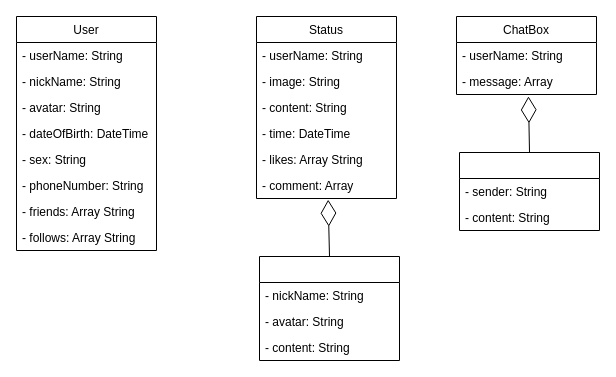
The diagram is 616 pixels wide and 377 high, and some of its shapes have lost their labels. The shapes that lost their labels are listed below. From the top down, each one's box as (x1, y1, x2, y2) in pixels, then its label:
(458, 152, 600, 230): Message
(258, 256, 400, 360): Comment
